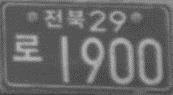0: (137, 36, 164, 86), (109, 36, 134, 85)
1: (59, 33, 72, 84)
2: (89, 9, 107, 32)
9: (80, 35, 107, 84), (108, 9, 127, 34)
로: (12, 33, 43, 63)
전북_O: (44, 8, 85, 30)
